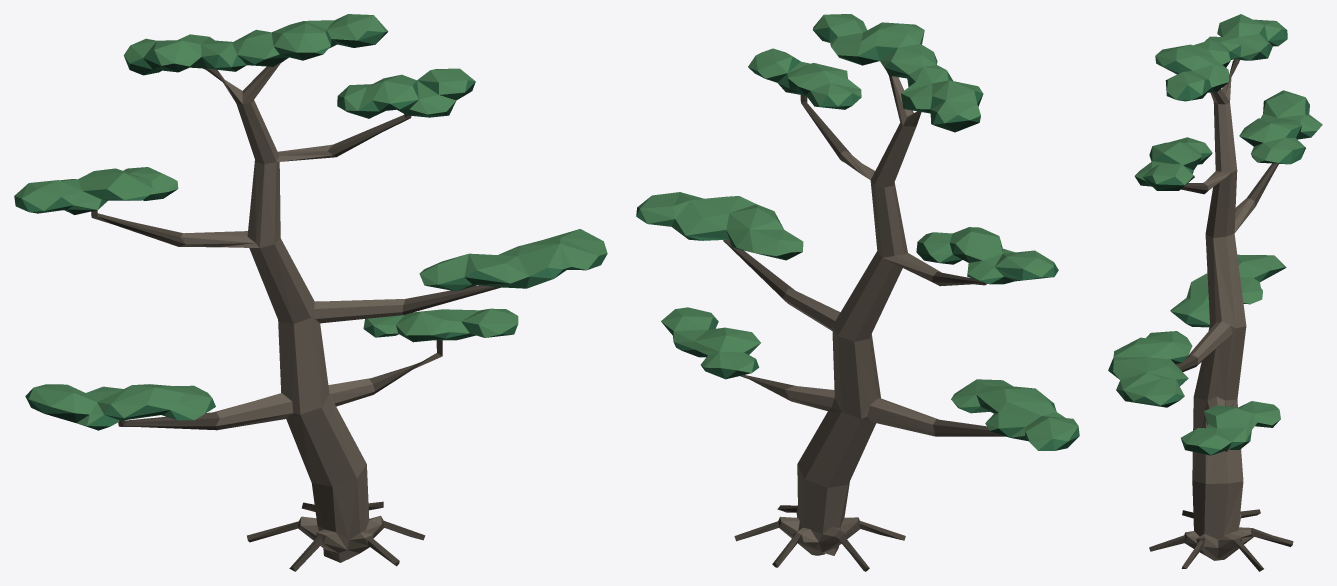
Rendered from ancient-pine-2189-lod2.glb.
The picture shows the model from 3 angles, left to right: view 1: azimuth 30°, elevation 25°; view 2: azimuth 150°, elevation 25°; view 3: azimuth 270°, elevation 25°; orthographic projection. The views are drawn at different scales.
Visible parts, largest first — view 1: n8.006, n12.006, n9.006, n11.006, n10.006; view 2: n12.006, n8.006, n11.006, n9.006, n10.006; view 3: n12.006, n8.006, n11.006, n9.006, n10.006.
Part boxes in pixels (x1=…): n8.006: x1=179, y1=63, x2=405, y2=562; n12.006: x1=14, y1=14, x2=607, y2=425; n9.006: x1=91, y1=57, x2=501, y2=571; n11.006: x1=14, y1=30, x2=607, y2=426; n10.006: x1=26, y1=31, x2=586, y2=430; n12.006: x1=637, y1=14, x2=1078, y2=450; n8.006: x1=779, y1=75, x2=941, y2=555; n11.006: x1=636, y1=17, x2=1079, y2=450; n9.006: x1=723, y1=72, x2=1005, y2=571; n10.006: x1=654, y1=30, x2=1079, y2=450; n12.006: x1=1113, y1=14, x2=1322, y2=449; n8.006: x1=1185, y1=63, x2=1255, y2=560; n11.006: x1=1108, y1=25, x2=1316, y2=454; n9.006: x1=1149, y1=59, x2=1293, y2=571; n10.006: x1=1109, y1=34, x2=1319, y2=455.
Size of the model in its own units: 5.26 by 5.44 by 2.19.
